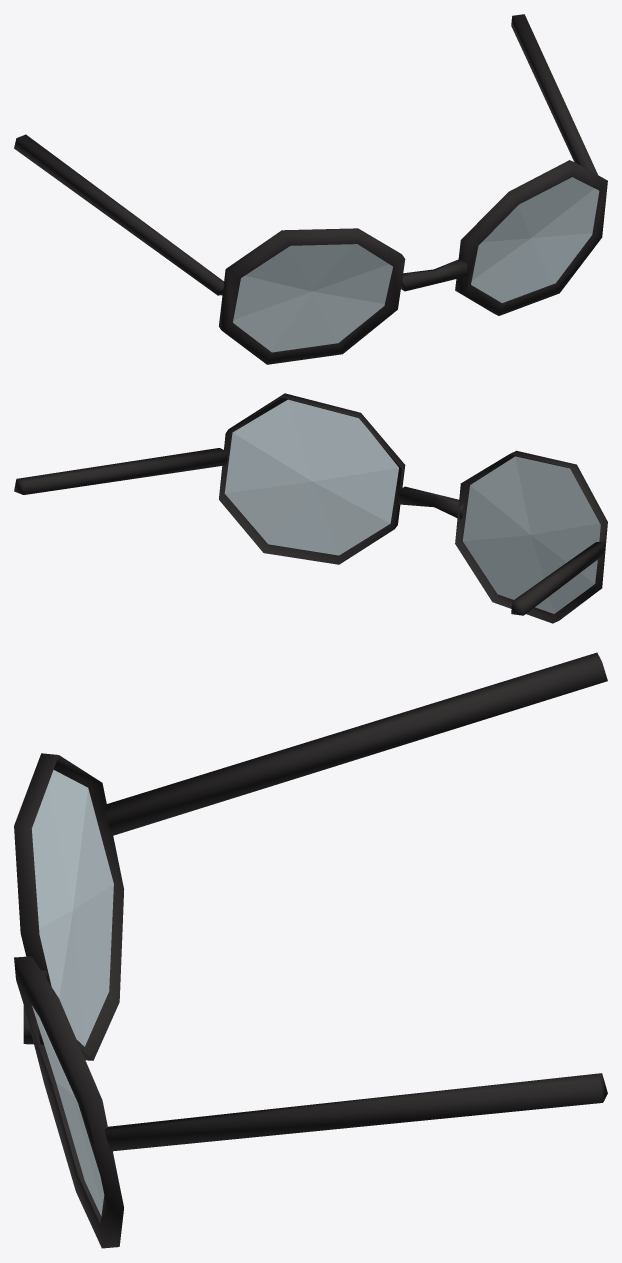
The model's file is glasses.glb.
3 views of the same model, one above another, from view 1: azimuth 30°, elevation 25°; view 2: azimuth 150°, elevation 25°; view 3: azimuth 270°, elevation 25° (orthographic). The views are drawn at different scales.
Parts seen in each view (by area): view 1: Glasses; view 2: Glasses; view 3: Glasses.
Boxes of the visible parts, bbox=[...] form: Glasses: bbox=[14, 14, 607, 364]; Glasses: bbox=[14, 393, 607, 623]; Glasses: bbox=[14, 652, 607, 1248].
Size of the model in its own units: 8.7 by 2.43 by 5.07.
2 materials, 1 textured.
